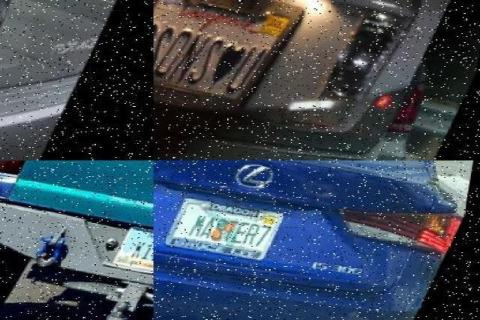LicensePlate: (154, 0, 306, 117), (167, 196, 290, 260), (116, 225, 152, 269)
